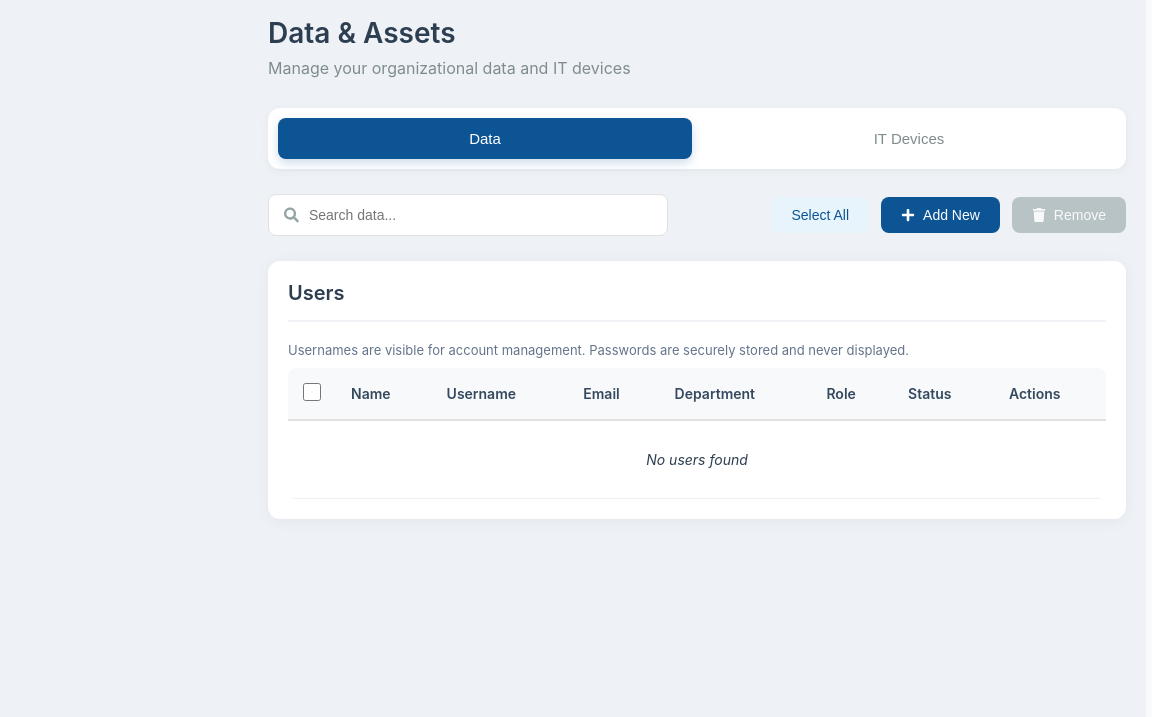
Scenario: blocks repeat submission while saving
Click the button "IT Devices" at [909, 138], box [702,118,1116,159]
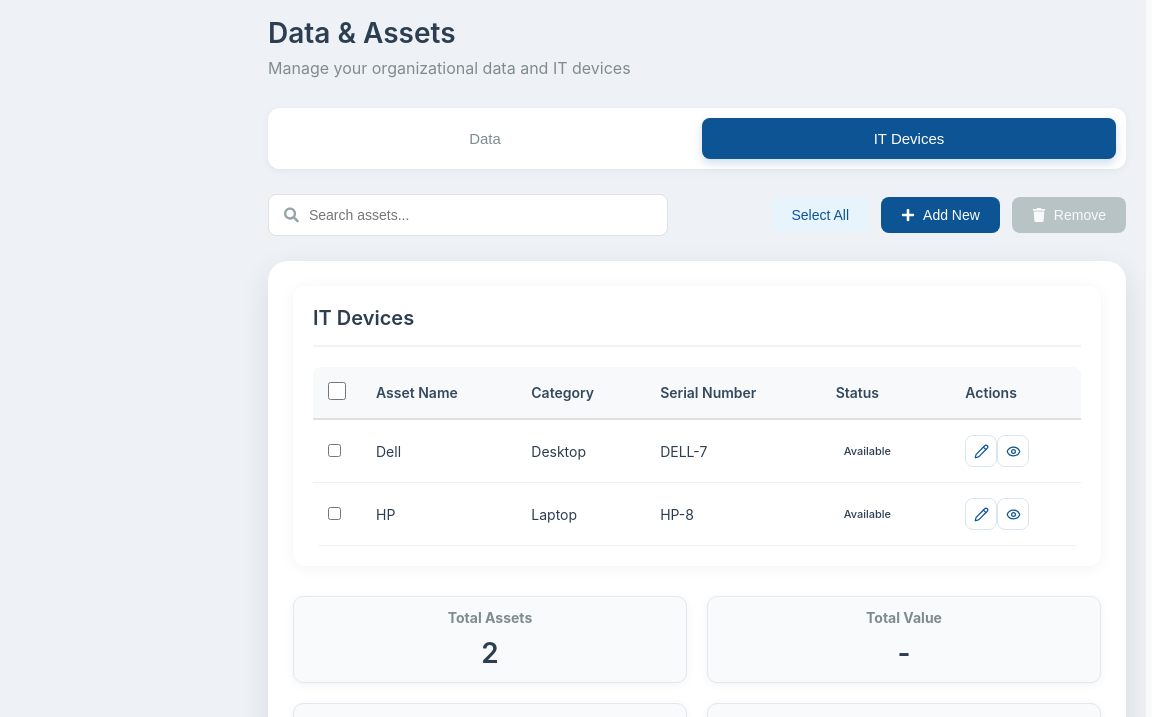
Check: the text "Dell" is shown, box [361,419,516,482]
Click the button named "Edit Dell" at [981, 451], box [965,435,997,467]
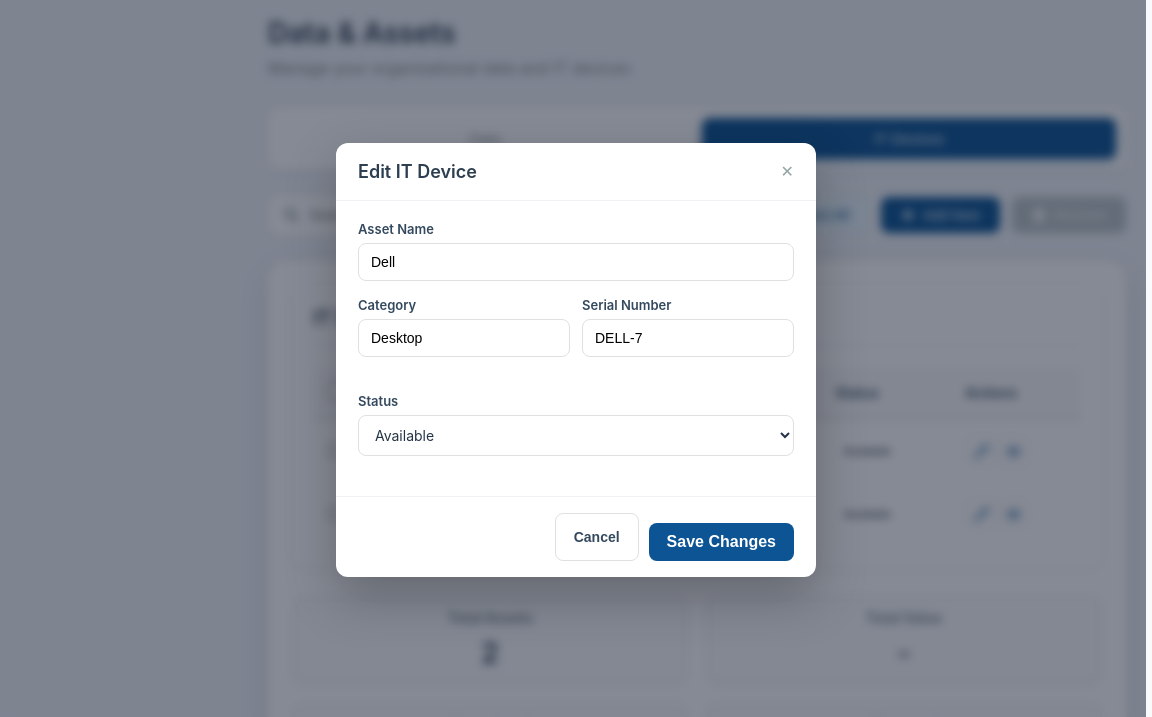
Click the button "Save Changes" at [721, 542], box [649,523,794,561]
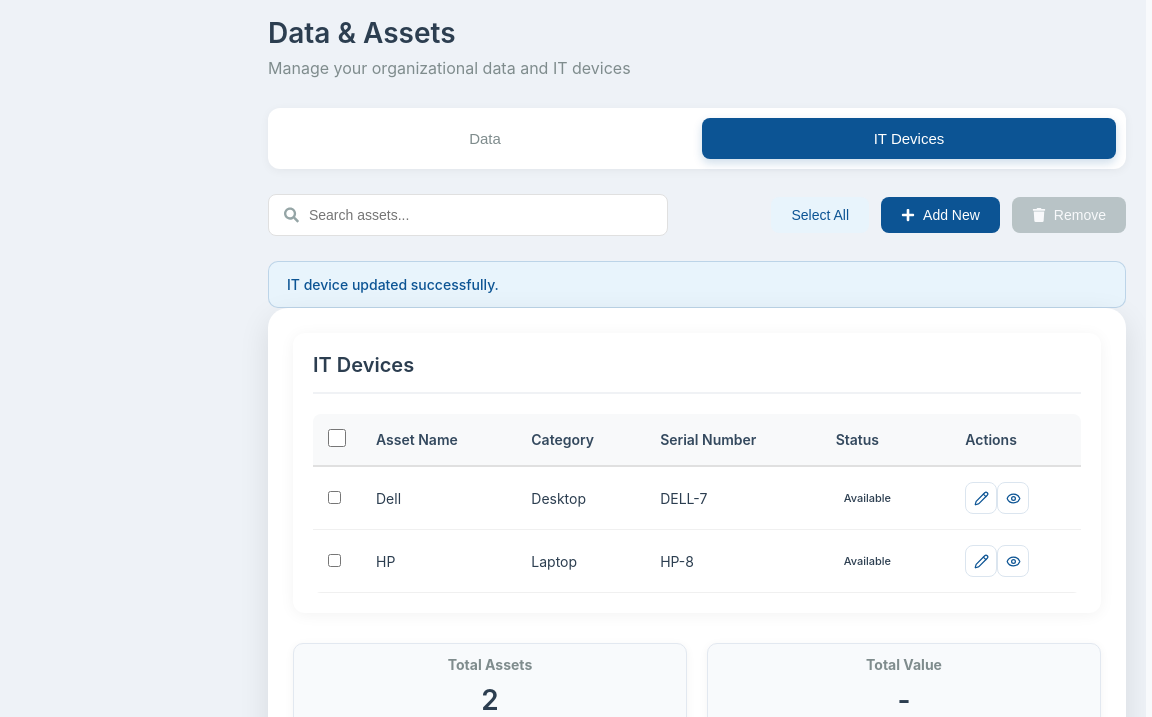
Check: the dialog is gone
